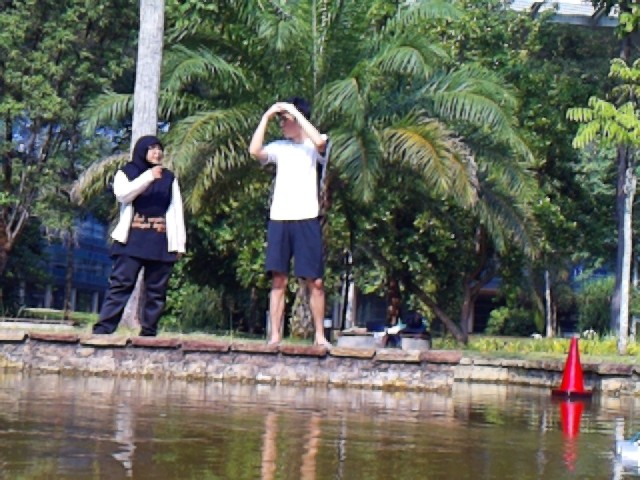obstacle: (550, 337, 592, 398)
